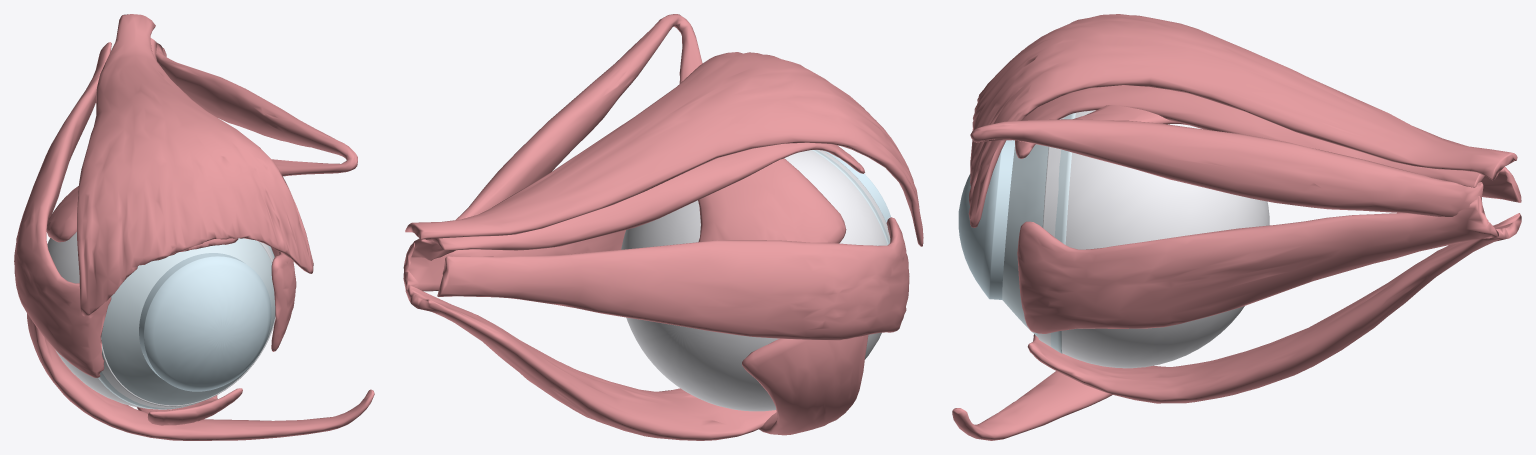
The model's file is eye.glb.
3 renders of one model, left to right at view 1: azimuth 30°, elevation 25°; view 2: azimuth 150°, elevation 25°; view 3: azimuth 270°, elevation 25°, orthographic. The views are drawn at different scales.
Parts seen in each view (by area): view 1: Levator palpebrae superioris, Cornea, Lateral rectus muscle, Anterior segment of eyeball, Superior oblique muscle, Inferior oblique muscle, Posterior segment of eyeball, Medial rectus muscle, Inferior rectus muscle, Superior rectus muscle; view 2: Lateral rectus muscle, Levator palpebrae superioris, Superior oblique muscle, Posterior segment of eyeball, Inferior rectus muscle, Superior rectus muscle, Inferior oblique muscle, Medial rectus muscle, Cornea; view 3: Medial rectus muscle, Levator palpebrae superioris, Superior oblique muscle, Posterior segment of eyeball, Inferior rectus muscle, Superior rectus muscle, Anterior segment of eyeball, Cornea, Inferior oblique muscle, Lateral rectus muscle.
Part boxes in pixels (left/top/right/bottom): Levator palpebrae superioris: left=77, top=14, right=313, bottom=316; Cornea: left=139, top=253, right=271, bottom=391; Lateral rectus muscle: left=14, top=42, right=111, bottom=377; Anterior segment of eyeball: left=98, top=238, right=275, bottom=409; Superior oblique muscle: left=46, top=43, right=357, bottom=242; Inferior oblique muscle: left=27, top=313, right=374, bottom=440; Posterior segment of eyeball: left=47, top=232, right=275, bottom=408; Medial rectus muscle: left=162, top=48, right=296, bottom=351; Inferior rectus muscle: left=137, top=388, right=242, bottom=425; Superior rectus muscle: left=115, top=38, right=238, bottom=260; Lateral rectus muscle: left=437, top=217, right=909, bottom=340; Levator palpebrae superioris: left=405, top=52, right=923, bottom=246; Superior oblique muscle: left=411, top=14, right=846, bottom=260; Posterior segment of eyeball: left=621, top=150, right=890, bottom=411; Inferior rectus muscle: left=405, top=284, right=776, bottom=440; Superior rectus muscle: left=426, top=142, right=864, bottom=250; Inferior oblique muscle: left=742, top=335, right=868, bottom=435; Medial rectus muscle: left=403, top=230, right=625, bottom=291; Cornea: left=824, top=151, right=890, bottom=222; Medial rectus muscle: left=1017, top=196, right=1498, bottom=333; Levator palpebrae superioris: left=968, top=14, right=1517, bottom=227; Superior oblique muscle: left=970, top=105, right=1483, bottom=216; Posterior segment of eyeball: left=1038, top=110, right=1269, bottom=368; Inferior rectus muscle: left=1027, top=213, right=1521, bottom=403; Superior rectus muscle: left=1015, top=85, right=1484, bottom=187; Anterior segment of eyeball: left=1002, top=113, right=1075, bottom=353; Cornea: left=958, top=140, right=1014, bottom=299; Inferior oblique muscle: left=952, top=371, right=1112, bottom=440; Lateral rectus muscle: left=1481, top=167, right=1521, bottom=202.
Bounding box in the file's own units: 1.72 × 1.84 × 2.6.
